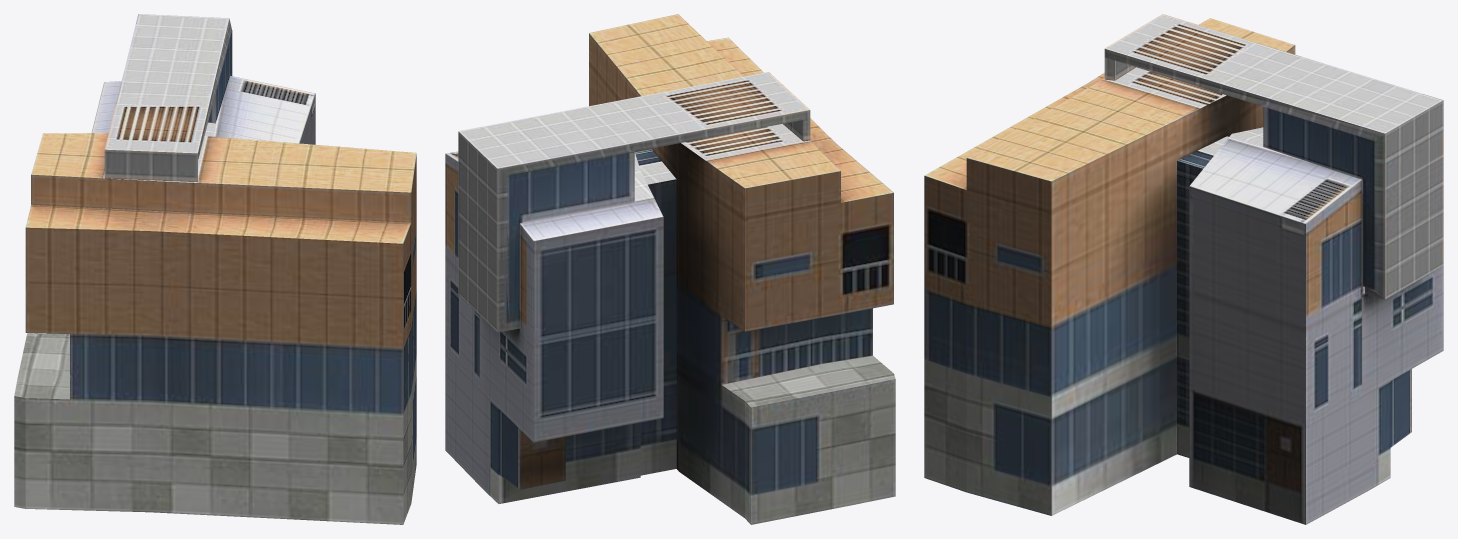
3 views of the same model, side by side, from view 1: azimuth 30°, elevation 25°; view 2: azimuth 150°, elevation 25°; view 3: azimuth 270°, elevation 25° (orthographic). The views are drawn at different scales.
Visible parts, largest first — view 1: MainBuilding; view 2: MainBuilding; view 3: MainBuilding.
Boxes of the visible parts, x1,y1,x2,y2 form: MainBuilding: (14, 14, 416, 524); MainBuilding: (445, 14, 895, 524); MainBuilding: (924, 14, 1443, 524).
Bounding box in the file's own units: 1.33 × 1.19 × 1.53.
1 material, 1 textured.
